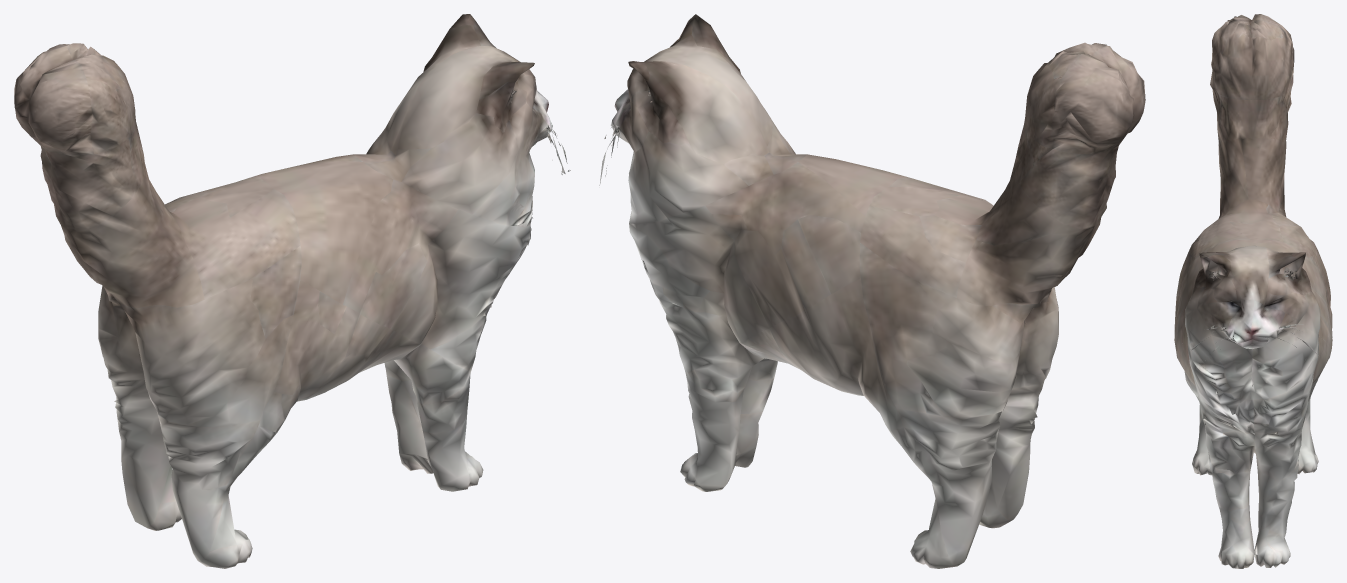
The model's file is PUFFCHEF-lo.glb.
3 renders of one model, left to right at view 1: azimuth 30°, elevation 25°; view 2: azimuth 150°, elevation 25°; view 3: azimuth 270°, elevation 25°, orthographic. The views are drawn at different scales.
Parts seen in each view (by area): view 1: tripo_node_fb11b954-1e77-4e29-acb1-0d4d2425b623; view 2: tripo_node_fb11b954-1e77-4e29-acb1-0d4d2425b623; view 3: tripo_node_fb11b954-1e77-4e29-acb1-0d4d2425b623.
Part boxes in pixels (x1,y1,x2,y2): tripo_node_fb11b954-1e77-4e29-acb1-0d4d2425b623: (14,14,570,568); tripo_node_fb11b954-1e77-4e29-acb1-0d4d2425b623: (599,14,1145,568); tripo_node_fb11b954-1e77-4e29-acb1-0d4d2425b623: (1174,14,1332,568).
Size of the model in its own units: 1.05 by 0.9996 by 0.3521.
1 material, 1 textured.
